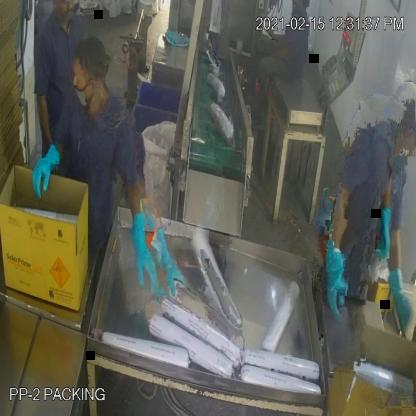glove: (126, 205, 160, 296), (318, 231, 350, 324), (386, 244, 416, 340), (29, 143, 62, 200)
